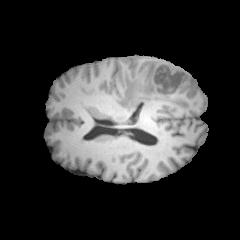glioma: (115, 61, 194, 111)
